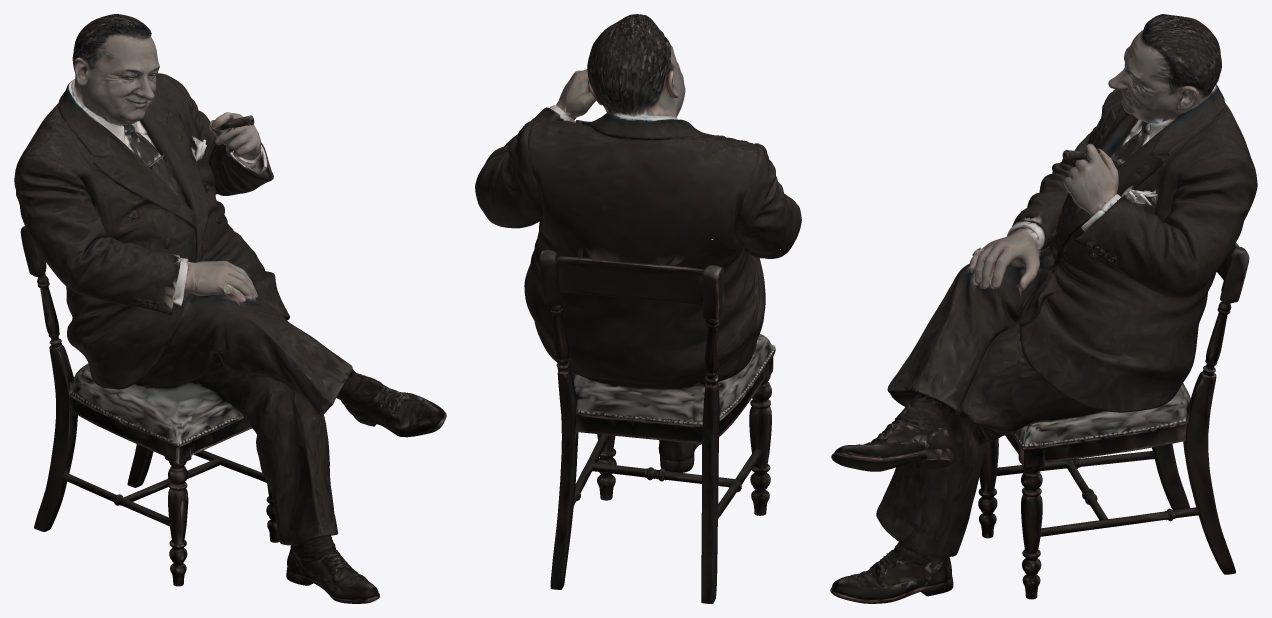
Rendered from pfisterer.glb.
3 views of the same model, side by side, from view 1: azimuth 30°, elevation 25°; view 2: azimuth 150°, elevation 25°; view 3: azimuth 270°, elevation 25° (orthographic). The views are drawn at different scales.
Bounding box in the file's own units: 0.5928 × 0.9782 × 0.7125.
